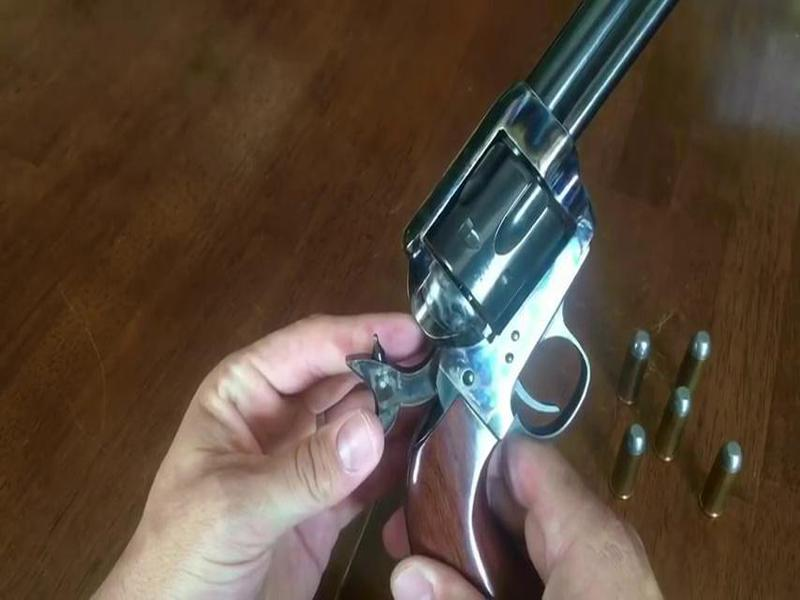Revolver: (401, 5, 687, 600)
